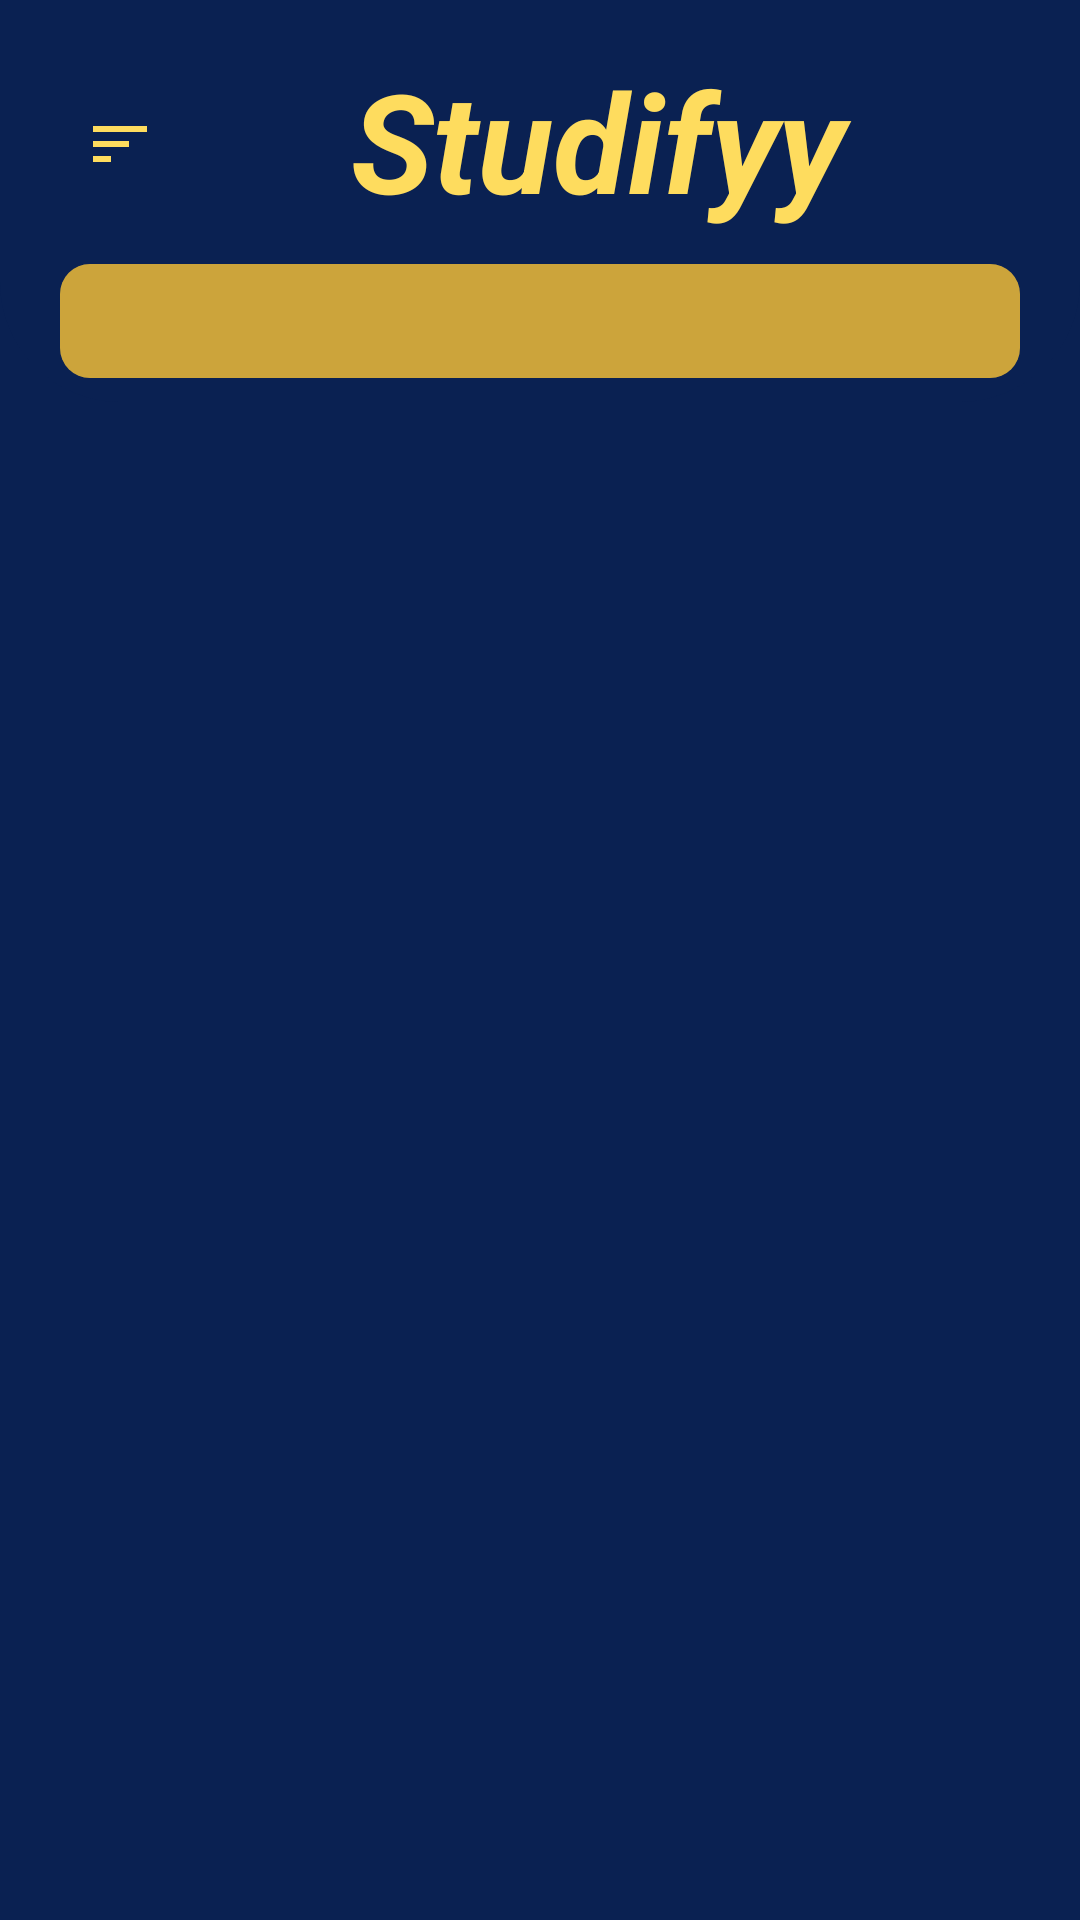

Icons on this 1080 x 1920 Android screen, each with its box as [left=x1, top=y1, right=x2, bottom=y2]:
sort: [left=93, top=126, right=147, bottom=162]
